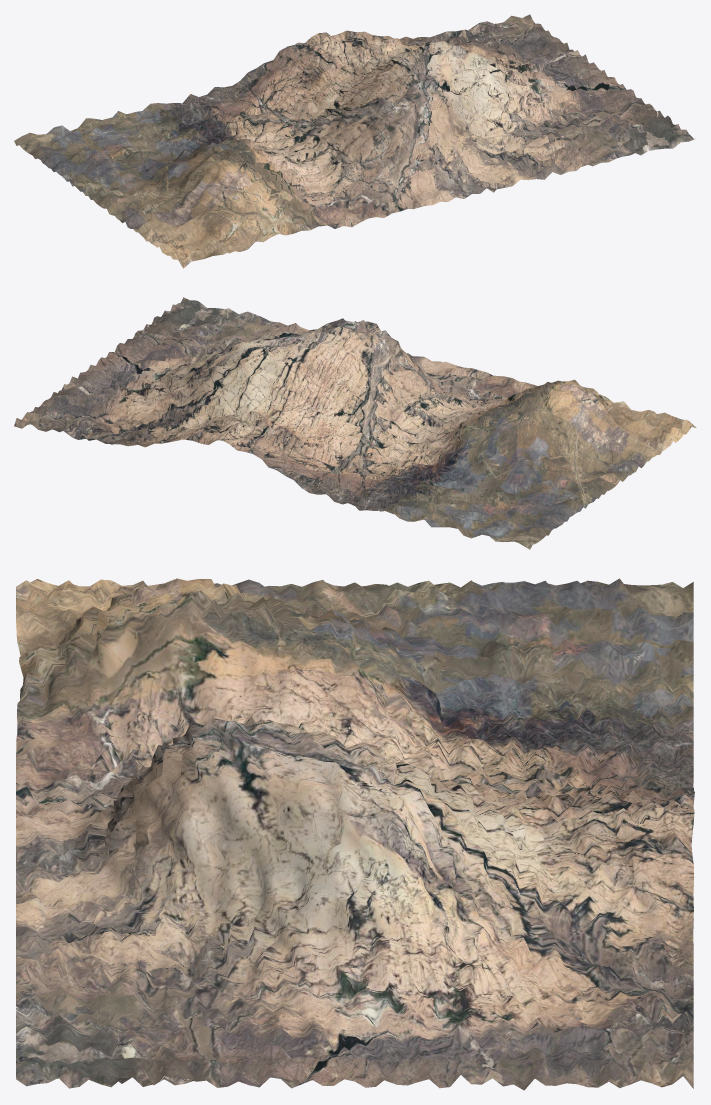
Rendered from gorabektayta.glb.
The picture shows the model from 3 angles, top to bottom: view 1: azimuth 30°, elevation 25°; view 2: azimuth 150°, elevation 25°; view 3: azimuth 270°, elevation 25°; orthographic projection. The views are drawn at different scales.
Visible parts, largest first — view 1: EXPORT_GOOGLE_SAT_WM; view 2: EXPORT_GOOGLE_SAT_WM; view 3: EXPORT_GOOGLE_SAT_WM.
Part boxes in pixels (bbox=[...]): EXPORT_GOOGLE_SAT_WM: bbox=[14, 14, 695, 268]; EXPORT_GOOGLE_SAT_WM: bbox=[14, 297, 696, 549]; EXPORT_GOOGLE_SAT_WM: bbox=[16, 578, 694, 1090].
Size of the model in its own units: 3424 by 512 by 1960.
Materials: 1 (1 with a texture image).
